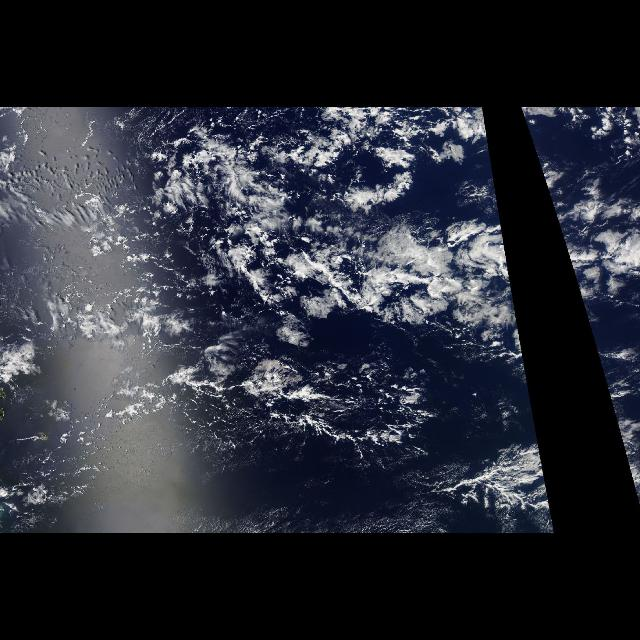Gravel: (107, 344, 436, 474)
